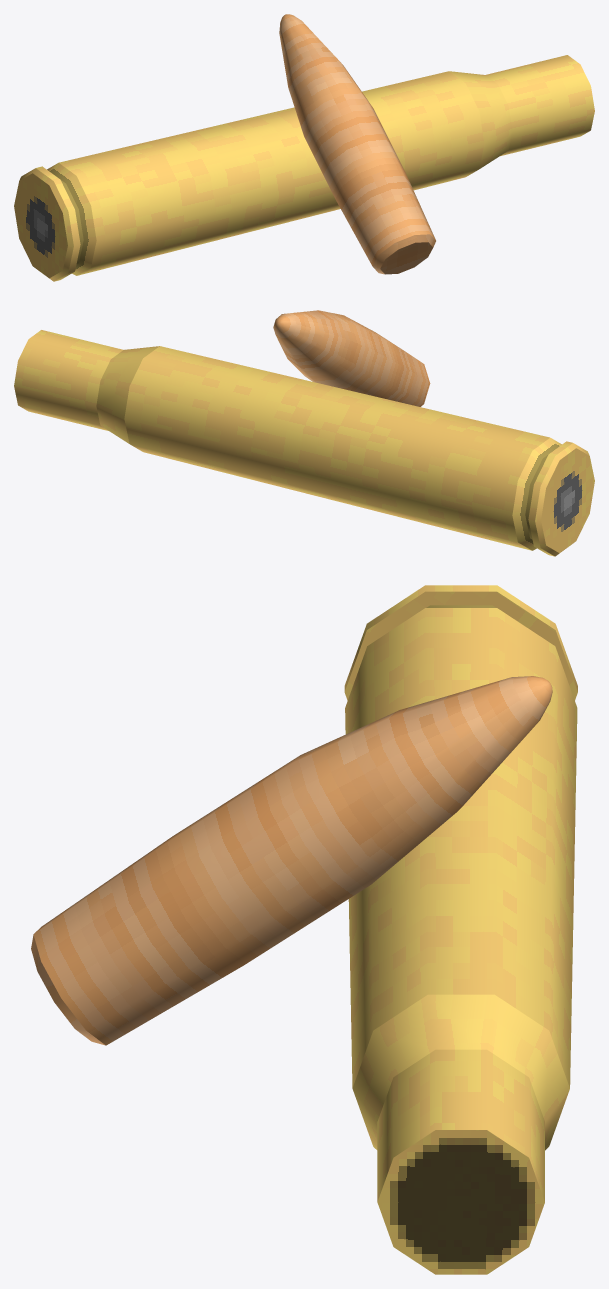
Rendered from ammomaker_PartsBottleneckM.fbx.
3 views of the same model, one above another, from view 1: azimuth 30°, elevation 25°; view 2: azimuth 150°, elevation 25°; view 3: azimuth 270°, elevation 25° (orthographic). The views are drawn at different scales.
Visible parts, largest first — view 1: ammomaker_PartsBottleneckM; view 2: ammomaker_PartsBottleneckM; view 3: ammomaker_PartsBottleneckM.
Boxes of the visible parts, x1=… form: ammomaker_PartsBottleneckM: x1=14, y1=14, x2=594, y2=281; ammomaker_PartsBottleneckM: x1=14, y1=310, x2=594, y2=556; ammomaker_PartsBottleneckM: x1=31, y1=585, x2=577, y2=1274.
Bounding box in the file's own units: 6.34 × 2.07 × 2.81.
